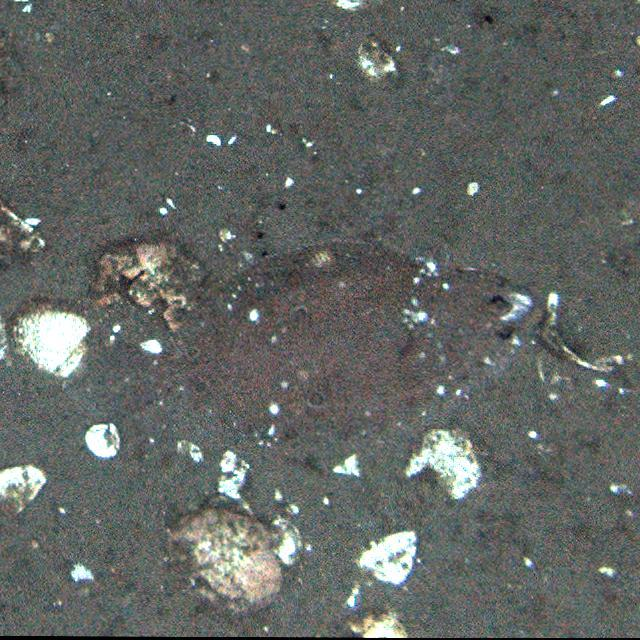flatfish: (74, 233, 532, 456)
